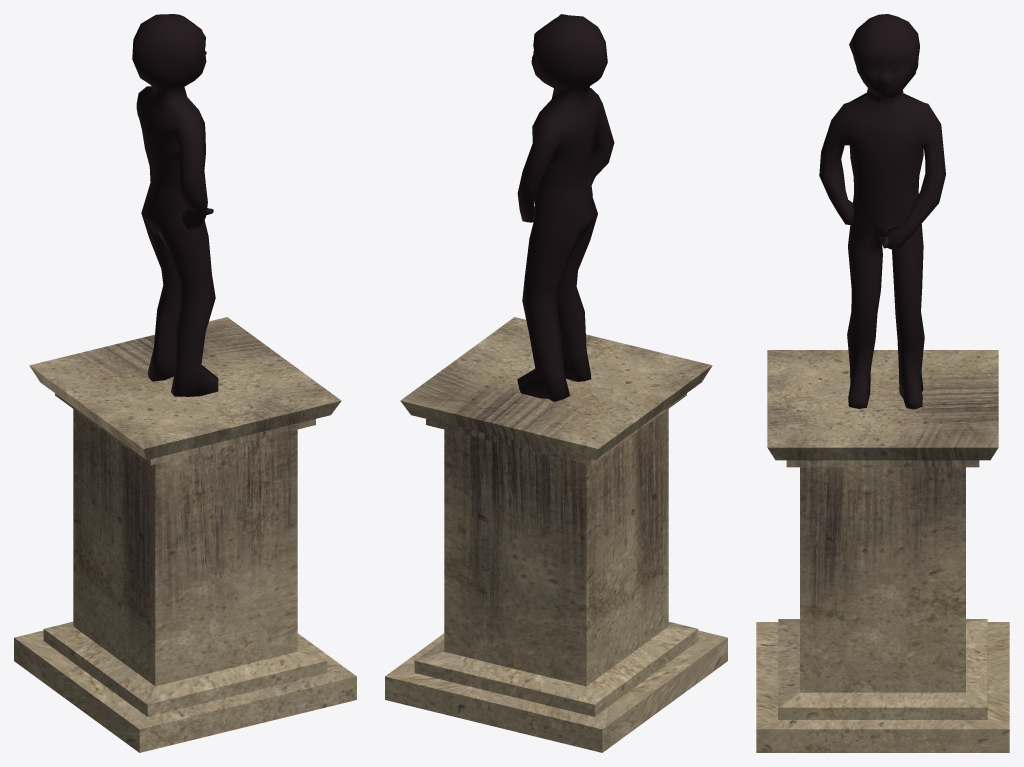
The model's file is mannekenpis.fbx.
3 views of the same model, side by side, from view 1: azimuth 30°, elevation 25°; view 2: azimuth 150°, elevation 25°; view 3: azimuth 270°, elevation 25° (orthographic).
Visible parts, largest first — view 1: pCube1, manneken01:Mesh; view 2: pCube1, manneken01:Mesh; view 3: pCube1, manneken01:Mesh.
Part boxes in pixels (x1,y1,x2,y2): pCube1: (14, 317, 356, 752); manneken01:Mesh: (132, 14, 218, 396); pCube1: (385, 317, 727, 752); manneken01:Mesh: (517, 14, 614, 401); pCube1: (756, 350, 1009, 752); manneken01:Mesh: (819, 14, 945, 409).
Size of the model in its own units: 2.51 by 7.37 by 2.51.
Materials: 2 (2 with a texture image).
